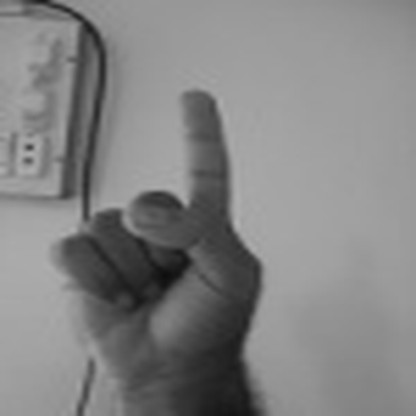d: (52, 81, 268, 390)
